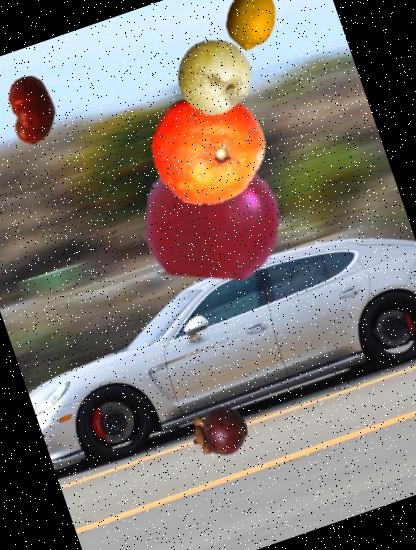Apple: (166, 28, 264, 126)
Clementine: (134, 72, 284, 222)
Lemon: (210, 0, 291, 59)
Mangostan: (185, 396, 255, 466)
Redcurrant: (126, 124, 300, 300)
Tomato: (0, 65, 77, 153)
